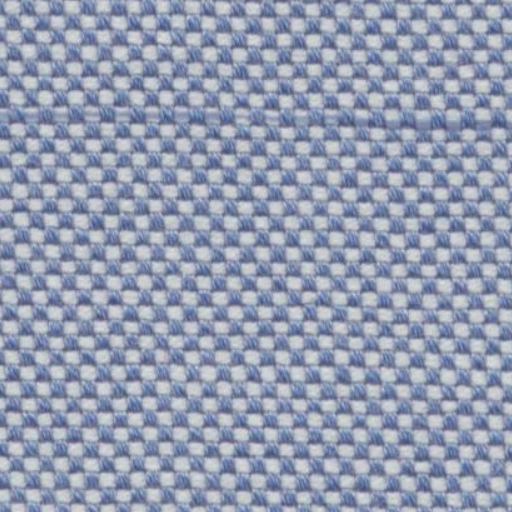TuoSha: (8, 79, 493, 160)
